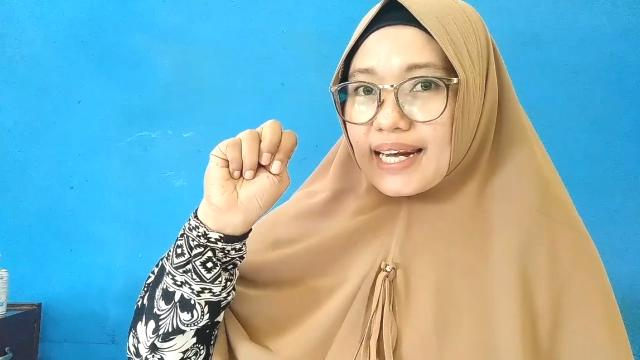N: (198, 118, 298, 208)
